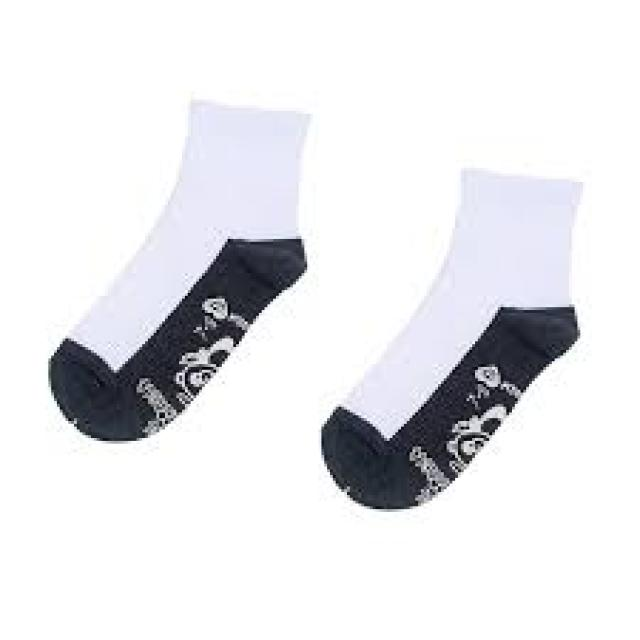sock: (45, 97, 313, 441), (319, 165, 583, 509)
